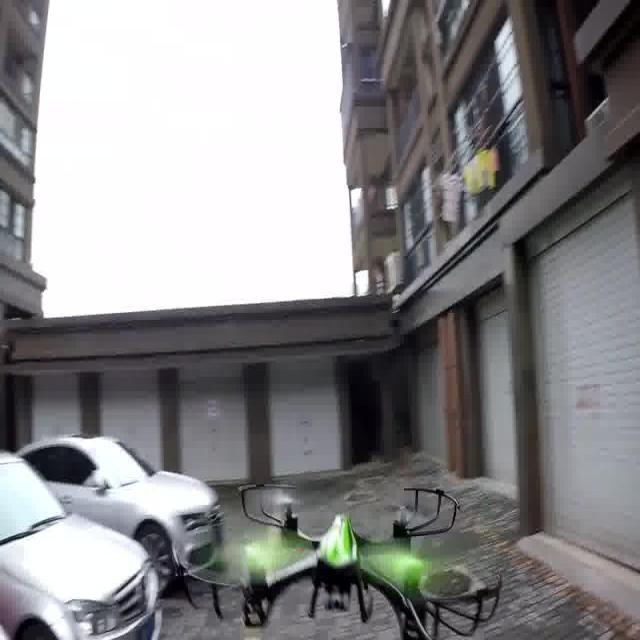drone: (176, 469, 510, 639)
